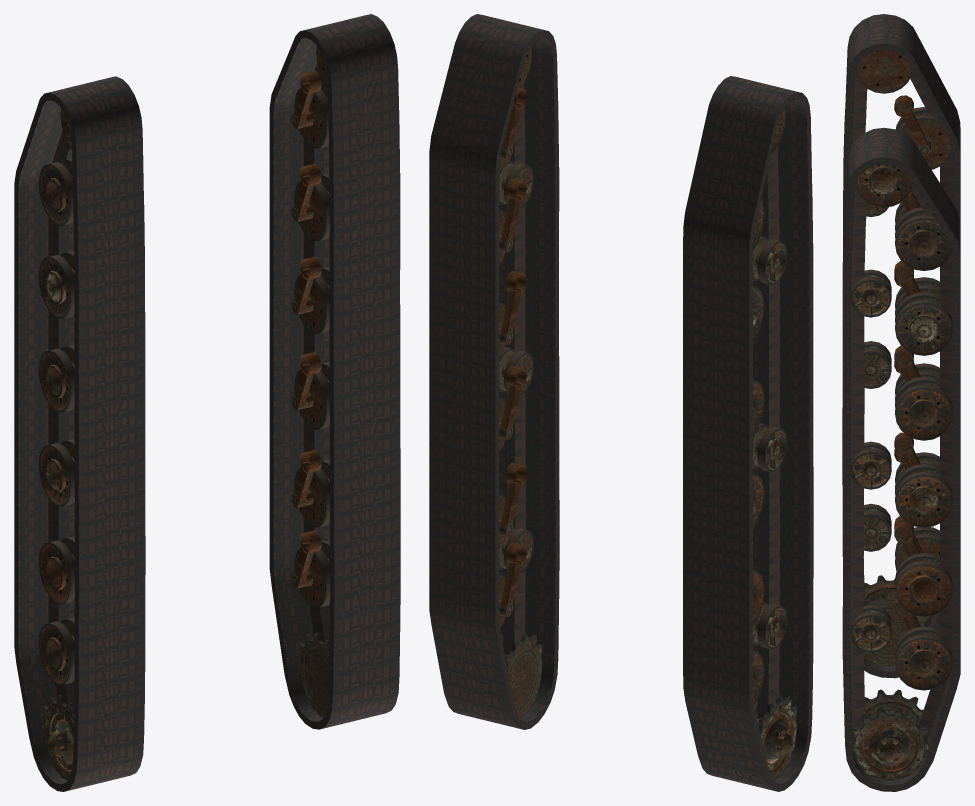
The model's file is Chassis_02.glb.
The picture shows the model from 3 angles, left to right: view 1: azimuth 30°, elevation 25°; view 2: azimuth 150°, elevation 25°; view 3: azimuth 270°, elevation 25°; orthographic projection. The views are drawn at different scales.
Visible parts, largest first — view 1: set_0_group_0, set_1_group_0, set_3_group_0, set_2_group_0; view 2: set_0_group_0, set_1_group_0, set_3_group_0, set_2_group_0; view 3: set_3_group_0, set_1_group_0, set_2_group_0, set_0_group_0.
Part boxes in pixels (bbox=[...]): set_0_group_0: bbox=[14, 76, 145, 791]; set_1_group_0: bbox=[269, 14, 400, 729]; set_3_group_0: bbox=[291, 46, 384, 717]; set_2_group_0: bbox=[38, 108, 128, 780]; set_0_group_0: bbox=[683, 76, 813, 791]; set_1_group_0: bbox=[429, 14, 559, 729]; set_3_group_0: bbox=[458, 46, 542, 717]; set_2_group_0: bbox=[713, 108, 797, 780]; set_3_group_0: bbox=[850, 164, 953, 780]; set_1_group_0: bbox=[842, 127, 960, 791]; set_2_group_0: bbox=[856, 50, 952, 666]; set_0_group_0: bbox=[842, 14, 960, 678].
Size of the model in its own units: 3.21 by 6.5 by 1.1.
4 materials, 4 textured.
